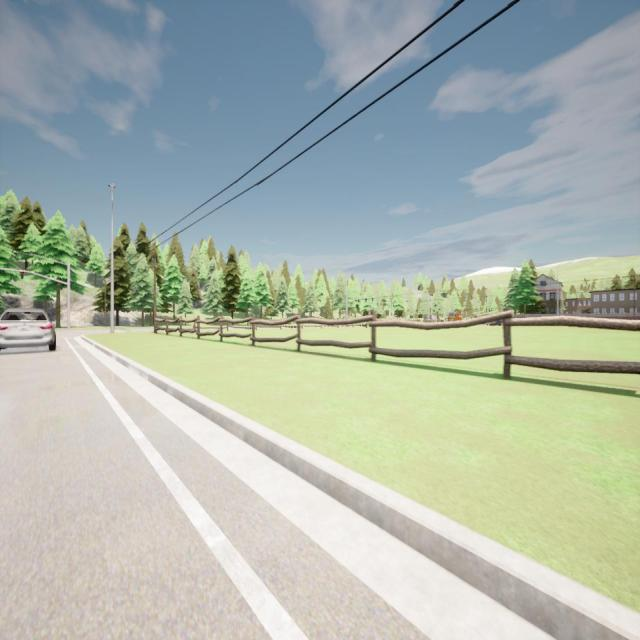Vehicle: (0, 309, 56, 351)
traffic_light: (20, 270, 24, 280)
